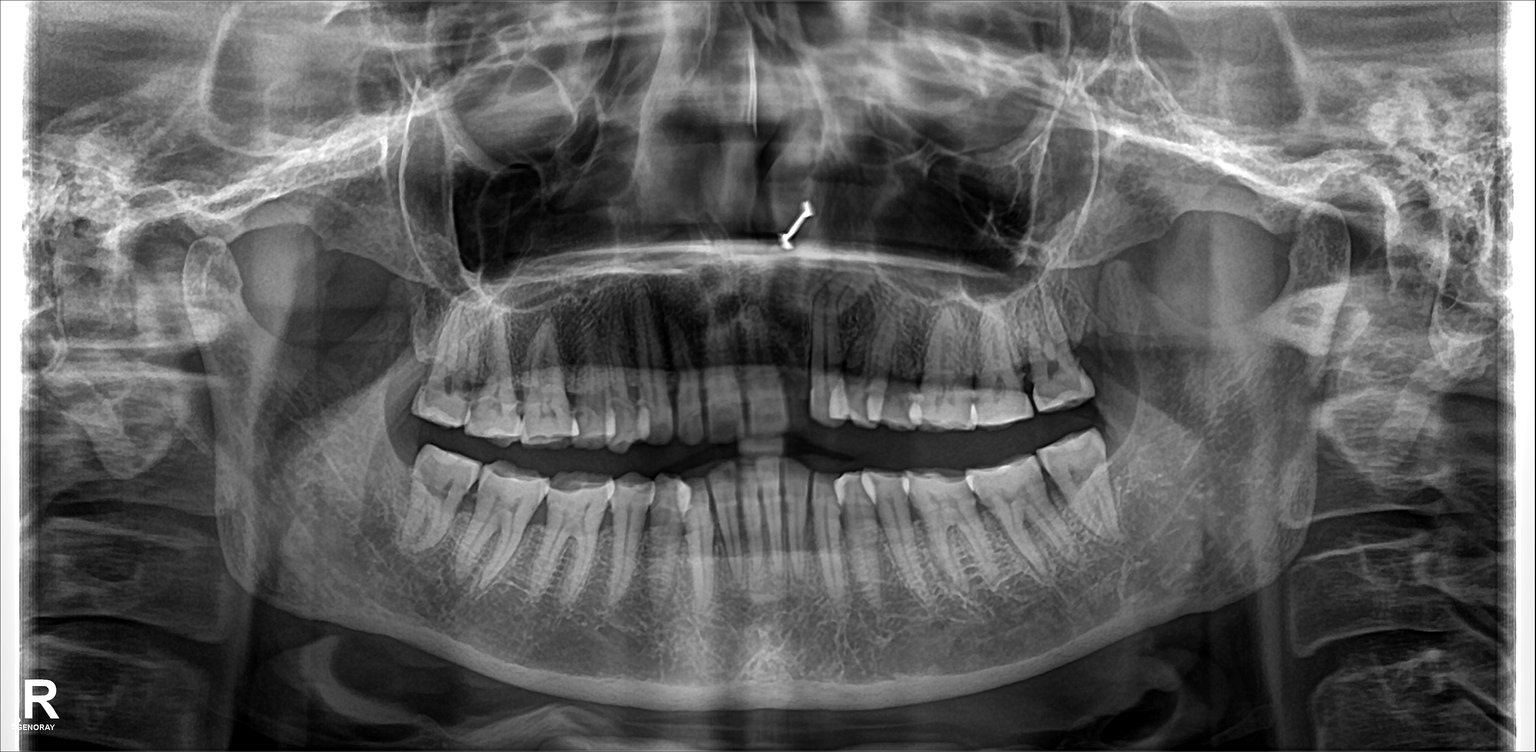Missing Tooth: (365, 428, 411, 533)
